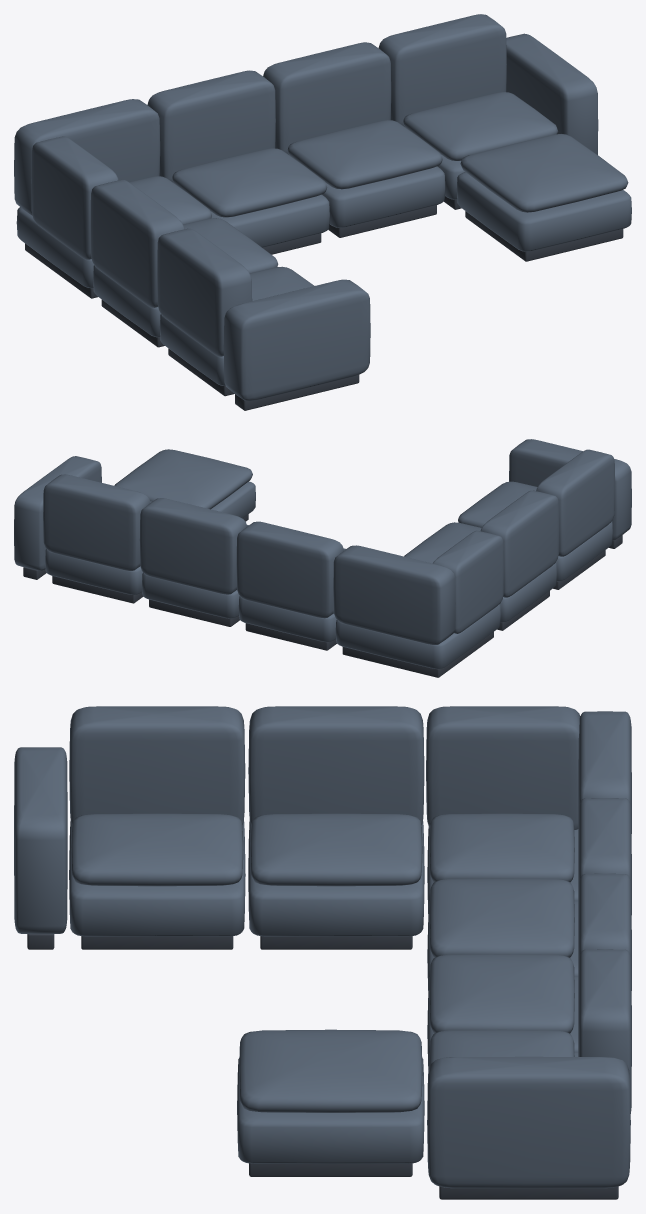
The model's file is sofa_u_modular_cinza_azulado.glb.
3 renders of one model, top to bottom at view 1: azimuth 30°, elevation 25°; view 2: azimuth 150°, elevation 25°; view 3: azimuth 270°, elevation 25°, orthographic. The views are drawn at different scales.
Visible parts, largest first — view 1: sofa_u_modular_cinza_azulado; view 2: sofa_u_modular_cinza_azulado; view 3: sofa_u_modular_cinza_azulado.
Boxes of the visible parts, <box> form: sofa_u_modular_cinza_azulado: <box>14,14,631,410</box>; sofa_u_modular_cinza_azulado: <box>14,439,631,677</box>; sofa_u_modular_cinza_azulado: <box>14,706,631,1199</box>.
Size of the model in its own units: 3.56 by 0.82 by 2.76.
Materials: 1 (1 with a texture image).
